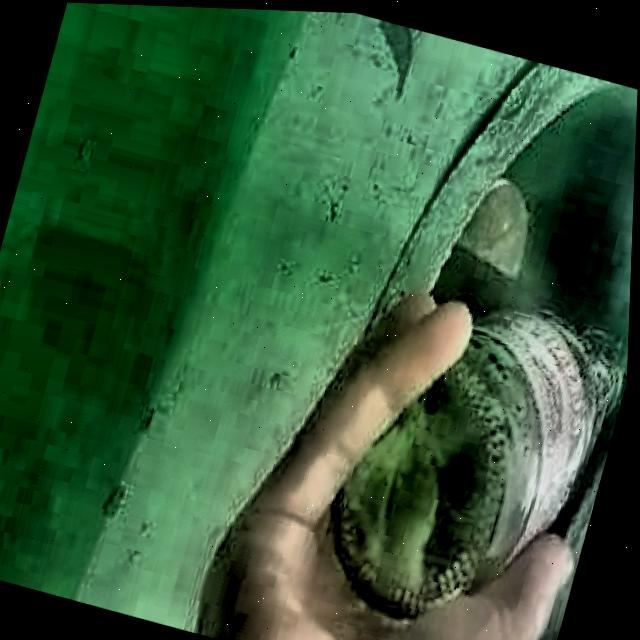glass: (336, 305, 625, 615)
